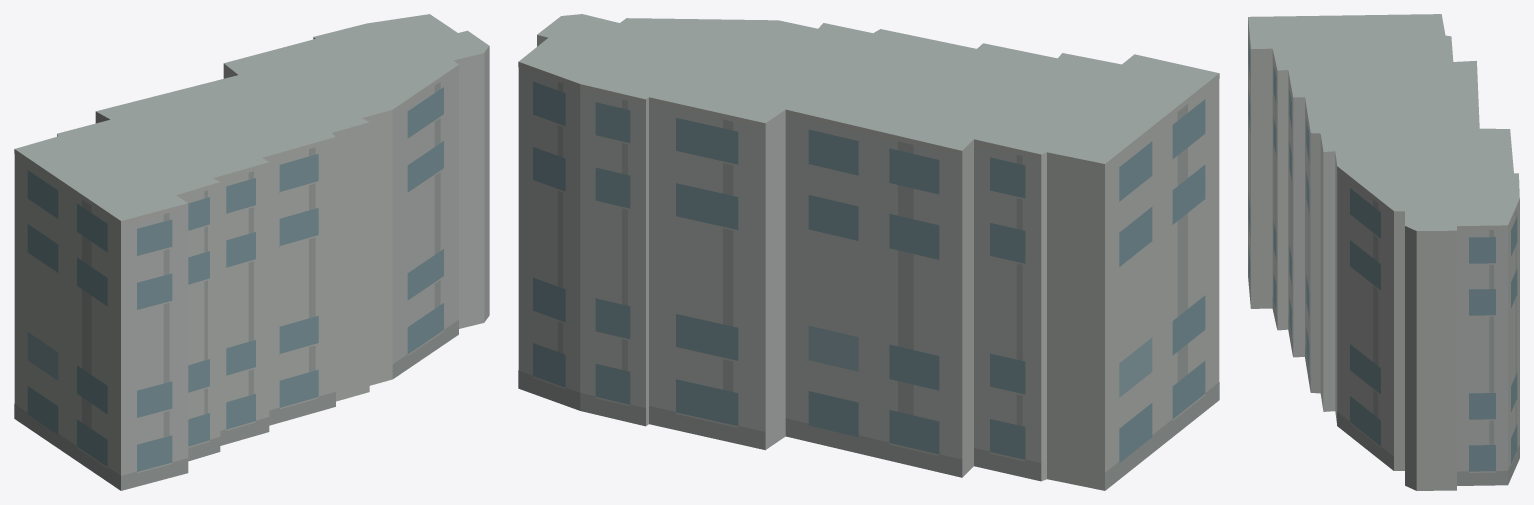
File: survey-upis-32994303.glb
The picture shows the model from 3 angles, left to right: view 1: azimuth 30°, elevation 25°; view 2: azimuth 150°, elevation 25°; view 3: azimuth 270°, elevation 25°; orthographic projection. The views are drawn at different scales.
Parts seen in each view (by area): view 1: survey-upis-32994303.tmp; view 2: survey-upis-32994303.tmp; view 3: survey-upis-32994303.tmp.
Part boxes in pixels (x1,y1,x2,y2): survey-upis-32994303.tmp: [14, 14, 489, 490]; survey-upis-32994303.tmp: [518, 14, 1219, 490]; survey-upis-32994303.tmp: [1248, 14, 1519, 490].
Bounding box in the file's own units: 25.45 × 14.2 × 13.47.
